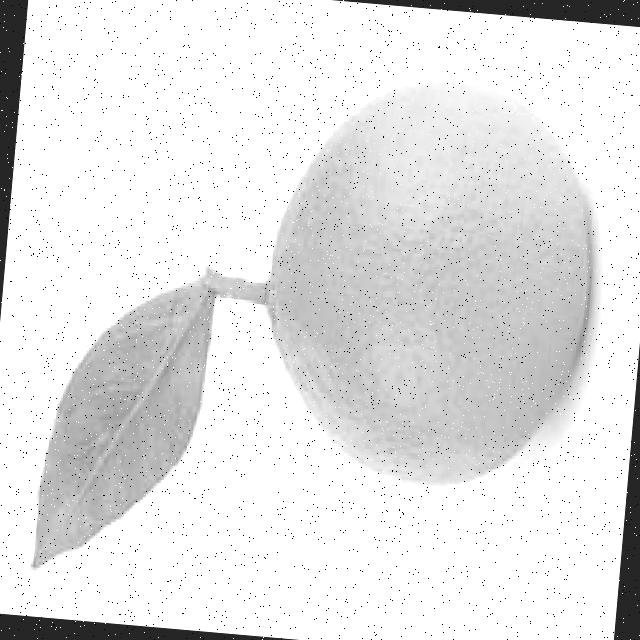orange: (251, 59, 608, 506)
